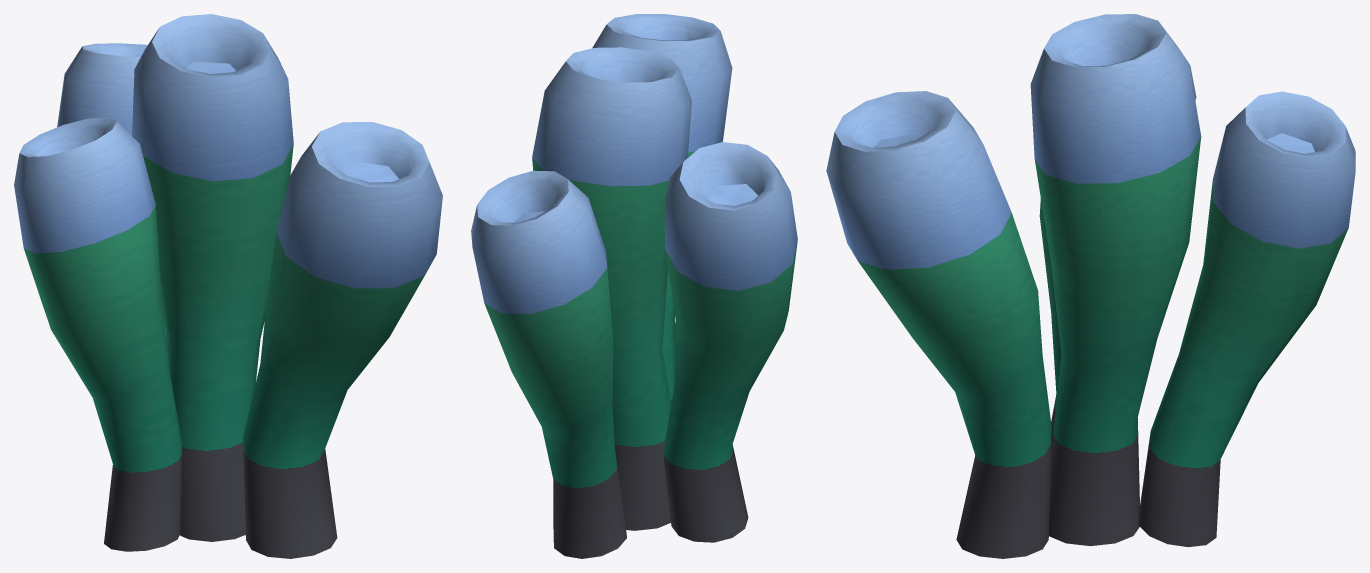
The model's file is D_CoralReef.016.glb.
The picture shows the model from 3 angles, left to right: view 1: azimuth 30°, elevation 25°; view 2: azimuth 150°, elevation 25°; view 3: azimuth 270°, elevation 25°; orthographic projection. The views are drawn at different scales.
Parts seen in each view (by area): view 1: D_CoralReef.016; view 2: D_CoralReef.016; view 3: D_CoralReef.016.
Boxes of the visible parts, <box> form: D_CoralReef.016: <box>14,14,442,558</box>; D_CoralReef.016: <box>471,14,797,558</box>; D_CoralReef.016: <box>826,14,1355,558</box>.
Bounding box in the file's own units: 0.144 × 0.2148 × 0.2055.
Materials: 1 (1 with a texture image).
